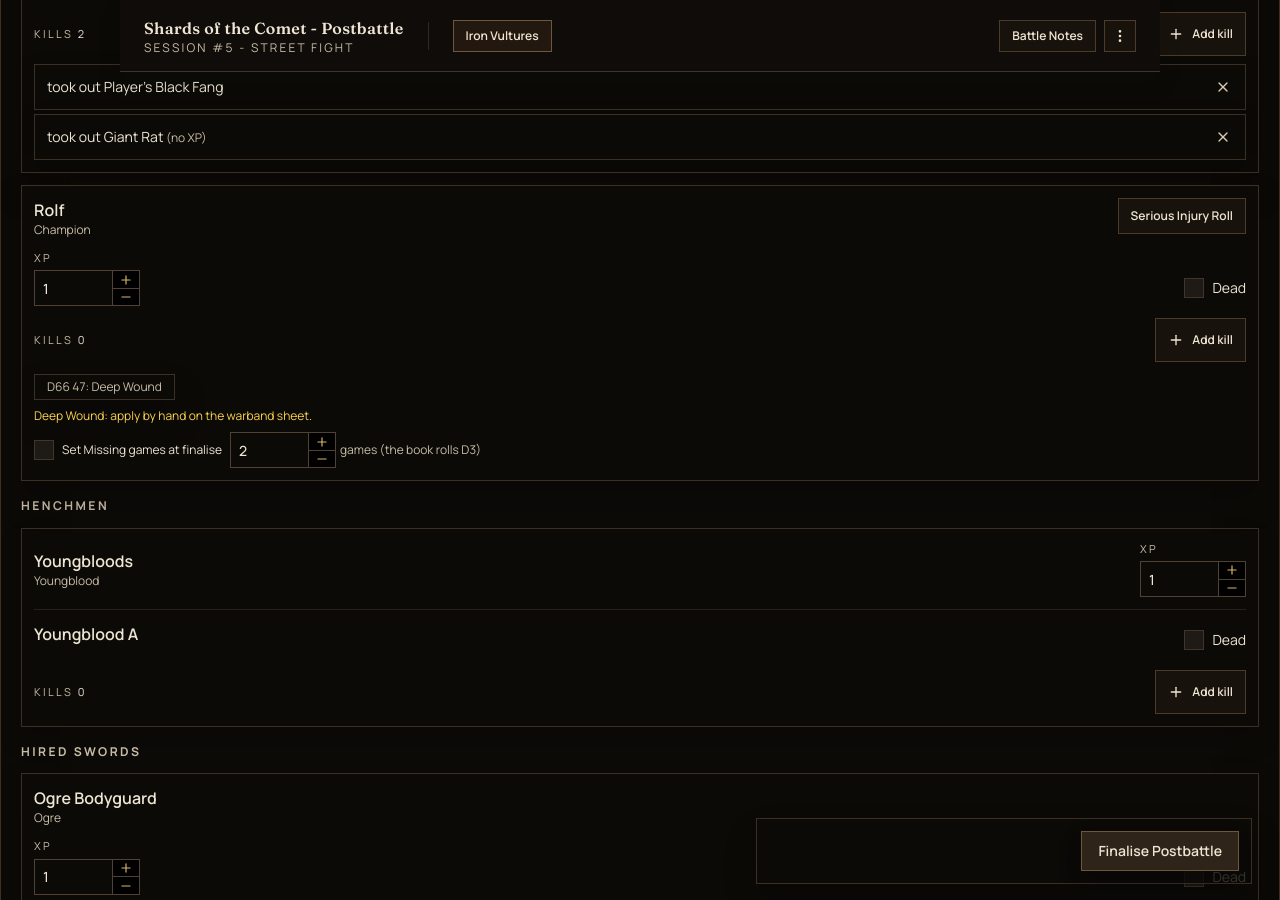
Test case: BattlePostbattle requests › offers the missing games an injury keeps a hero out for, unticked; ticking saves them and the summary lists them
The image size is (1280, 900).
(page scrolled)
Check: the checkbox named "Set Missing games at finalise for Rolf" is not checked, box [34,440,222,460]
Replace the text in the number field labelled "games (the book rolls D3)" with "3": (270, 450) [230,432,310,468]
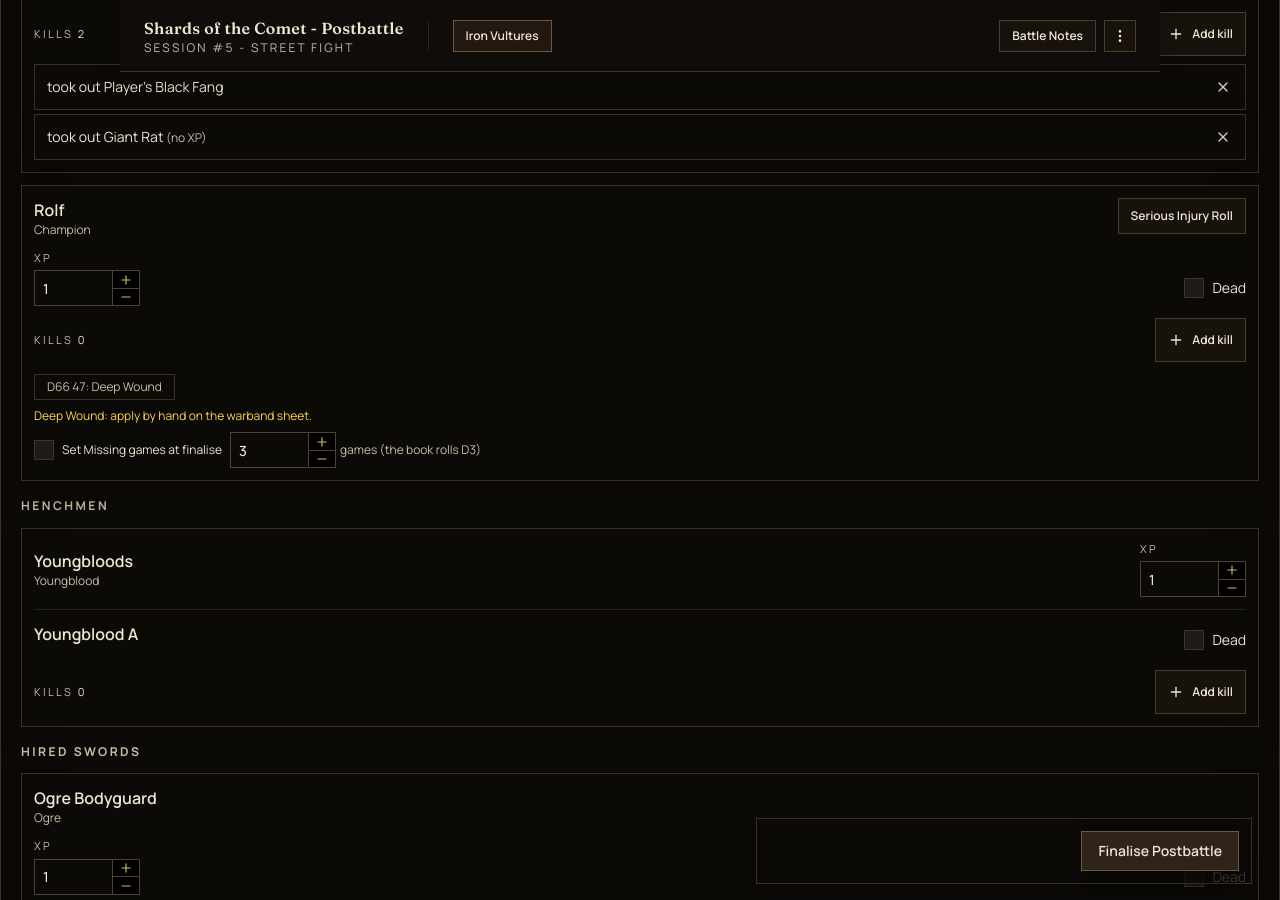
Click the checkbox named "Set Missing games at finalise for Rolf": (128, 450) [34,440,222,460]
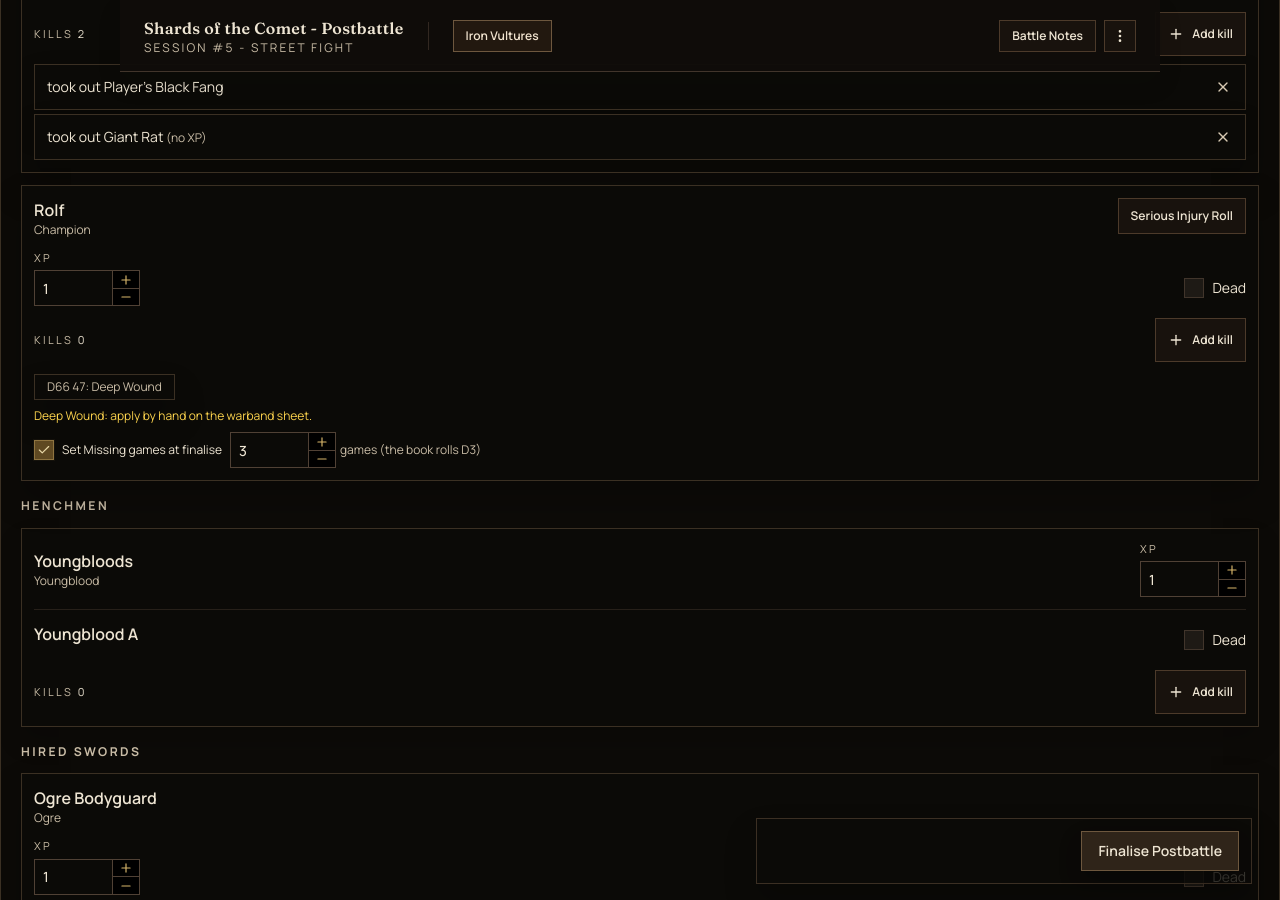
Click the button "Finalise Postbattle": (1160, 851) [1081,831,1239,871]
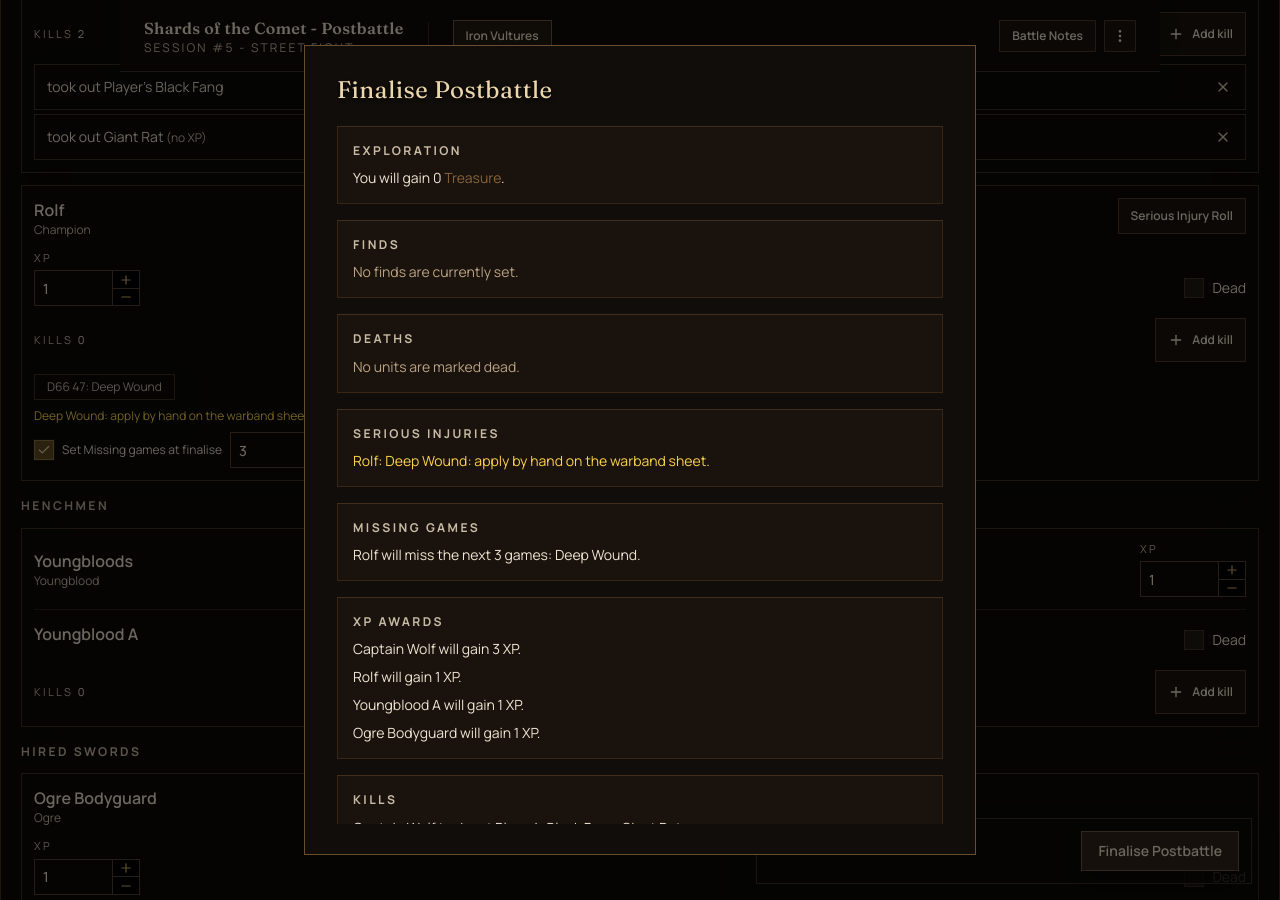
Check: the dialog "Finalise Postbattle" shows "Missing games", box [353,519,480,536]
Check: the dialog "Finalise Postbattle" shows "Rolf will miss the next 3 games: Deep Wound.", box [353,545,641,564]
